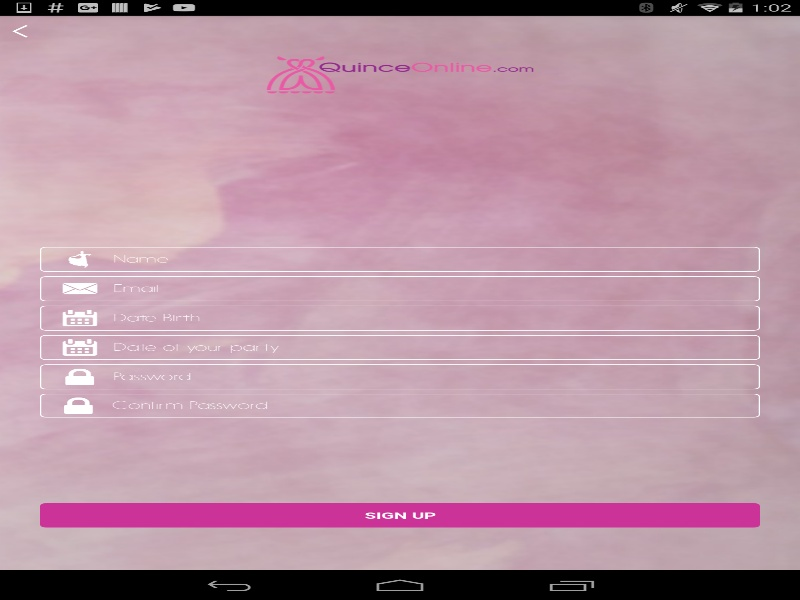Input: (113, 253, 753, 265), (113, 341, 753, 353), (112, 400, 754, 411), (113, 283, 753, 294), (113, 312, 753, 323), (113, 371, 753, 382)
